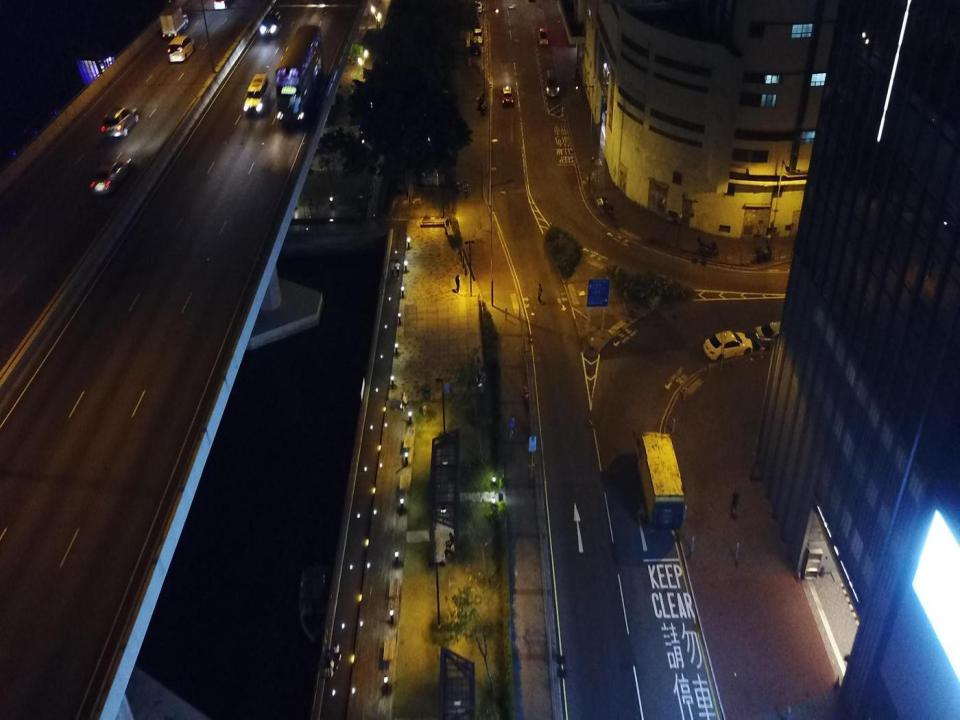bus: (275, 25, 323, 122)
car: (90, 158, 132, 198), (754, 319, 806, 351), (703, 330, 751, 363), (104, 106, 139, 139), (260, 7, 283, 36), (502, 86, 514, 106), (538, 26, 548, 46), (470, 41, 481, 59), (475, 0, 482, 14)
truck: (638, 431, 686, 529), (160, 6, 188, 36)
van: (244, 72, 270, 115), (168, 35, 195, 63), (544, 69, 559, 96), (472, 25, 484, 42)
